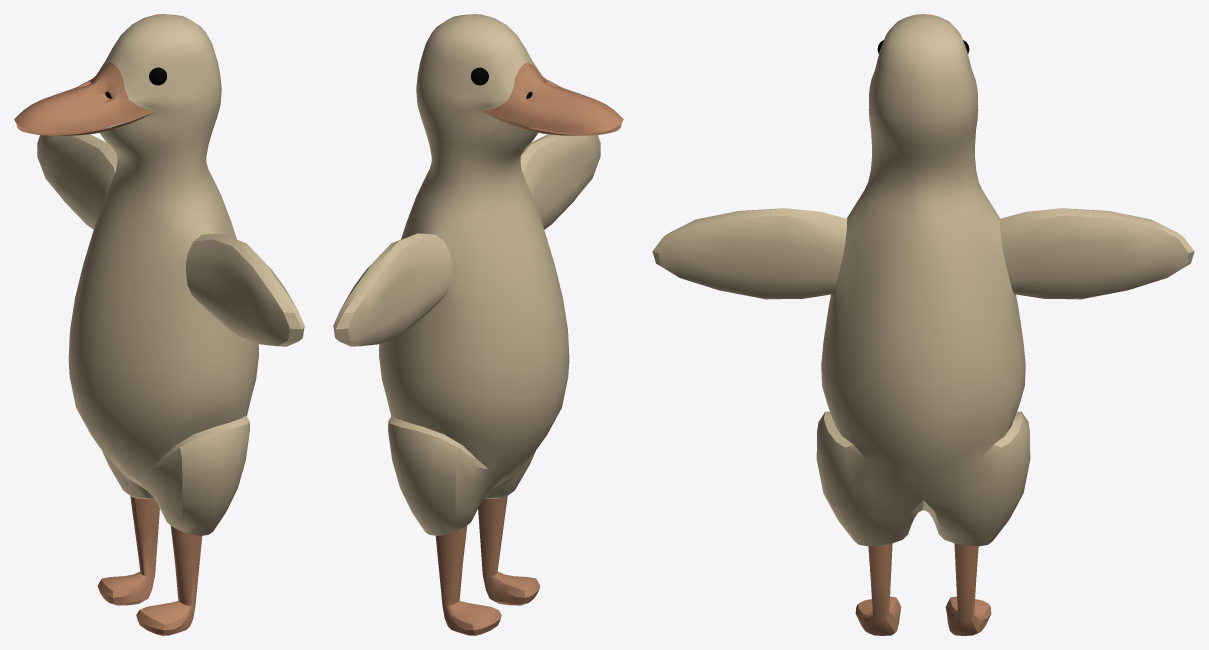
The model's file is DuckOnShoelace.fbx.
3 views of the same model, side by side, from view 1: azimuth 30°, elevation 25°; view 2: azimuth 150°, elevation 25°; view 3: azimuth 270°, elevation 25° (orthographic). The views are drawn at different scales.
Parts seen in each view (by area): view 1: Duck; view 2: Duck; view 3: Duck.
Boxes of the visible parts, left/top/right/bottom form: Duck: left=14, top=14, right=304, bottom=635; Duck: left=333, top=14, right=623, bottom=635; Duck: left=652, top=14, right=1194, bottom=635.
Bounding box in the file's own units: 439 × 1081 × 862.
